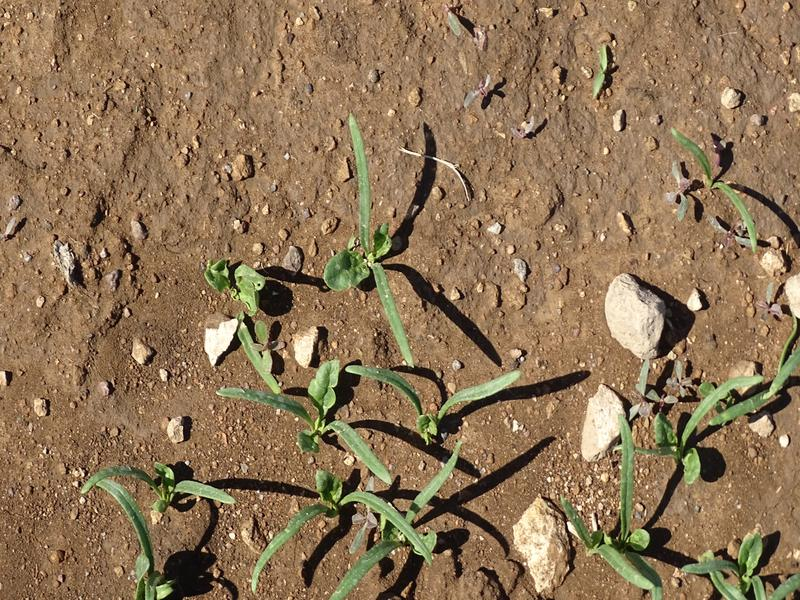Espinaca: (215, 122, 489, 597), (602, 376, 793, 600), (81, 452, 219, 592), (667, 130, 762, 258)
